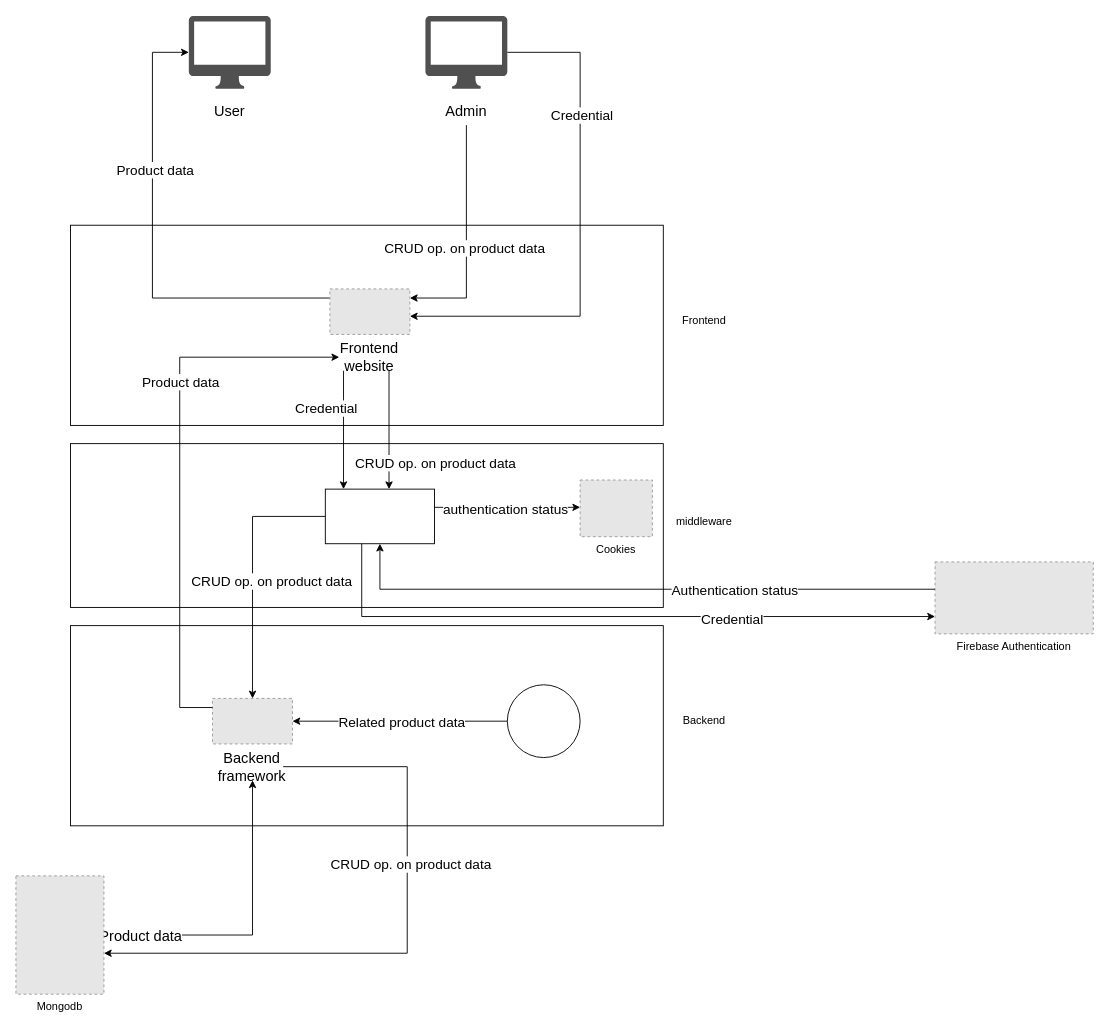
The diagram is 1109 pixels wide and 1028 high, and some of its shapes have lost their labels. Grey dashed boxes stand in for pictures. The shapes that lost their labels are listed below. From the top down, each one's box as (x1, y1, x2, y2) in pixels, then its label:
(324, 488, 435, 544): Authentication process
(506, 684, 580, 758): related product model
